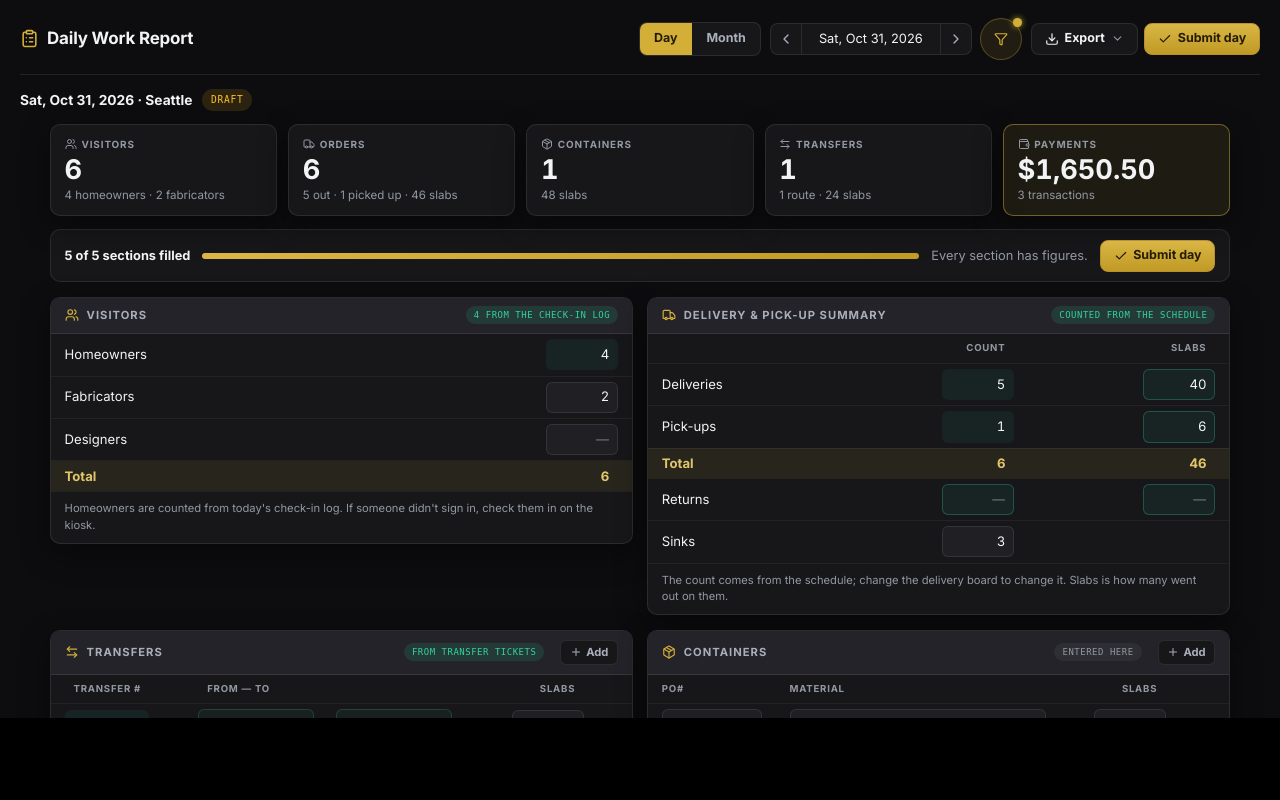
Scenario: Daily Report › opens the month, and all locations
Click the tab "Month".
click(726, 39)  # box [692, 23, 760, 55]
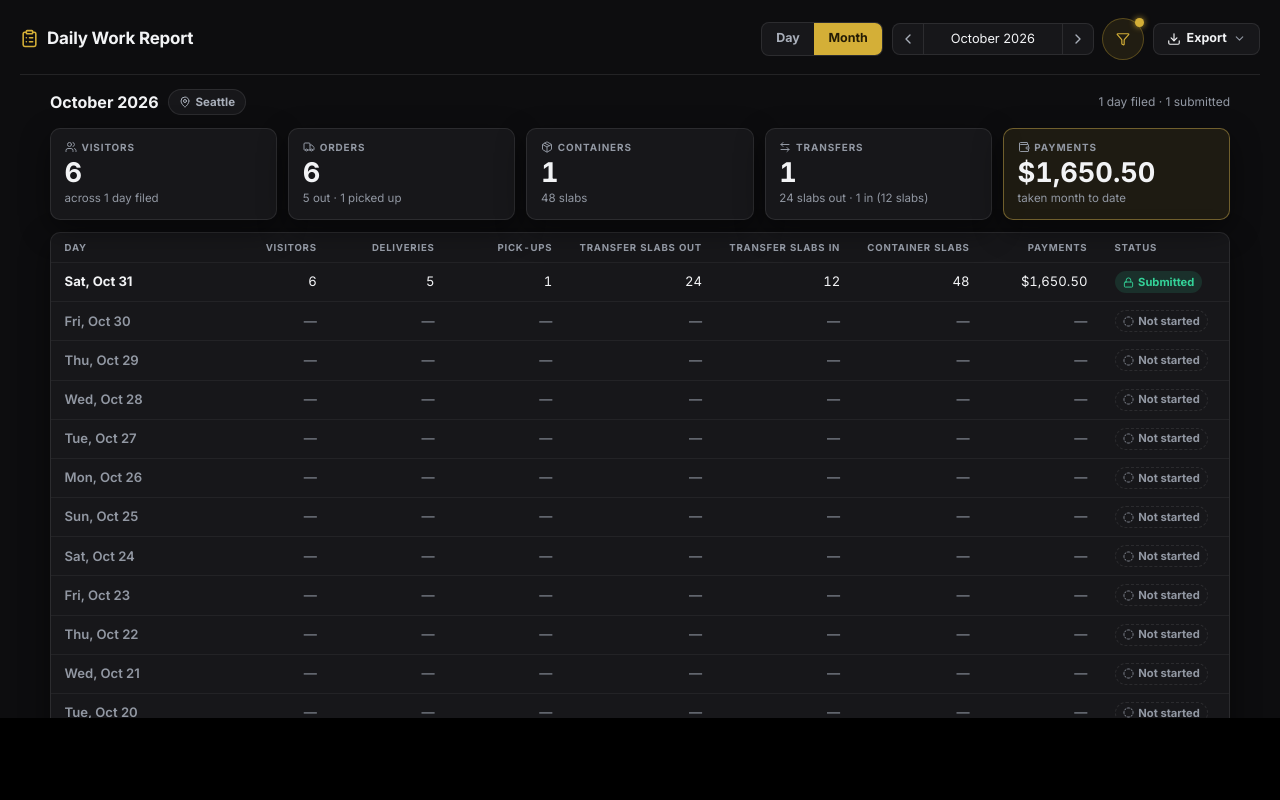
Click the tab "Day".
click(788, 39)  # box [762, 23, 814, 55]
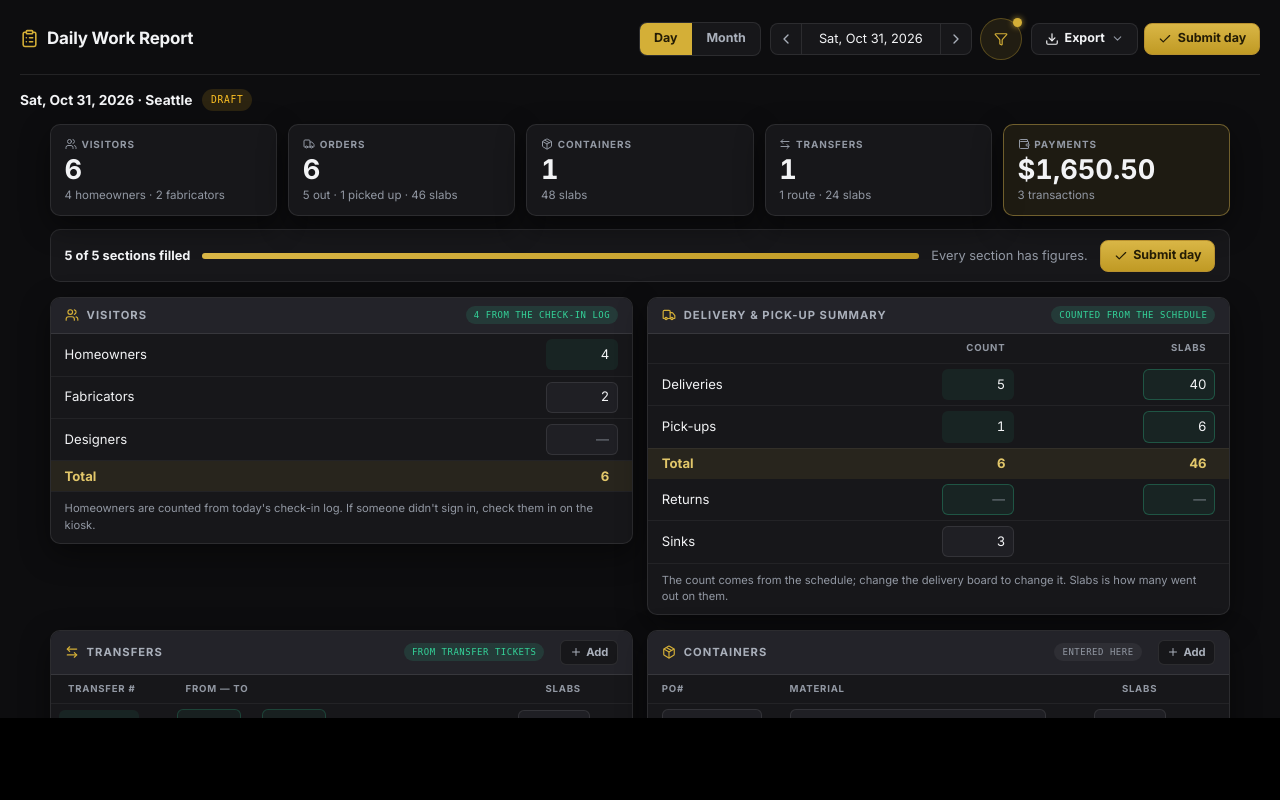
Click the button with class "lf-btn".
click(1001, 39)  # box [980, 18, 1022, 60]
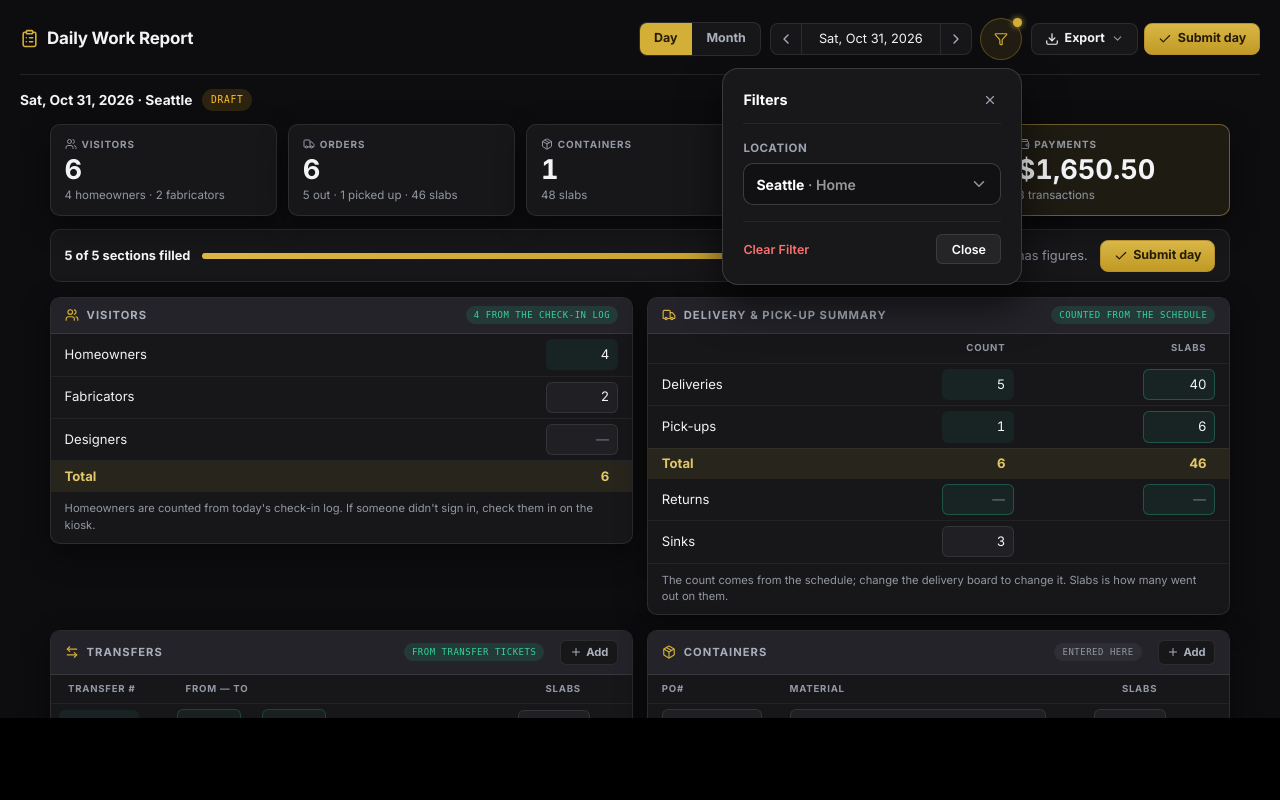
Click the button "Clear Filter".
click(776, 249)  # box [743, 238, 809, 261]
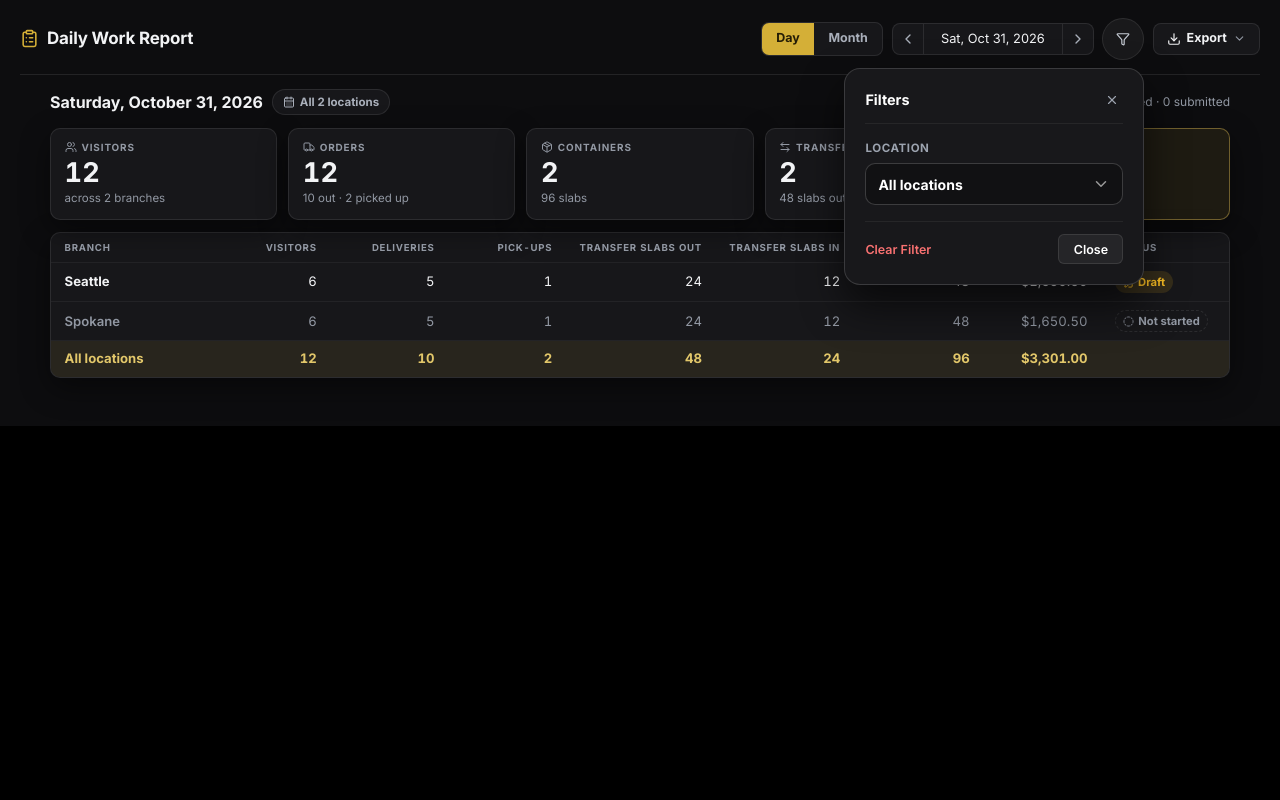
Now the text "All 2 locations" is shown, box [272, 89, 390, 115]
Now the text "1 of 2 started · 0 submitted" is shown, box [1079, 93, 1230, 111]
